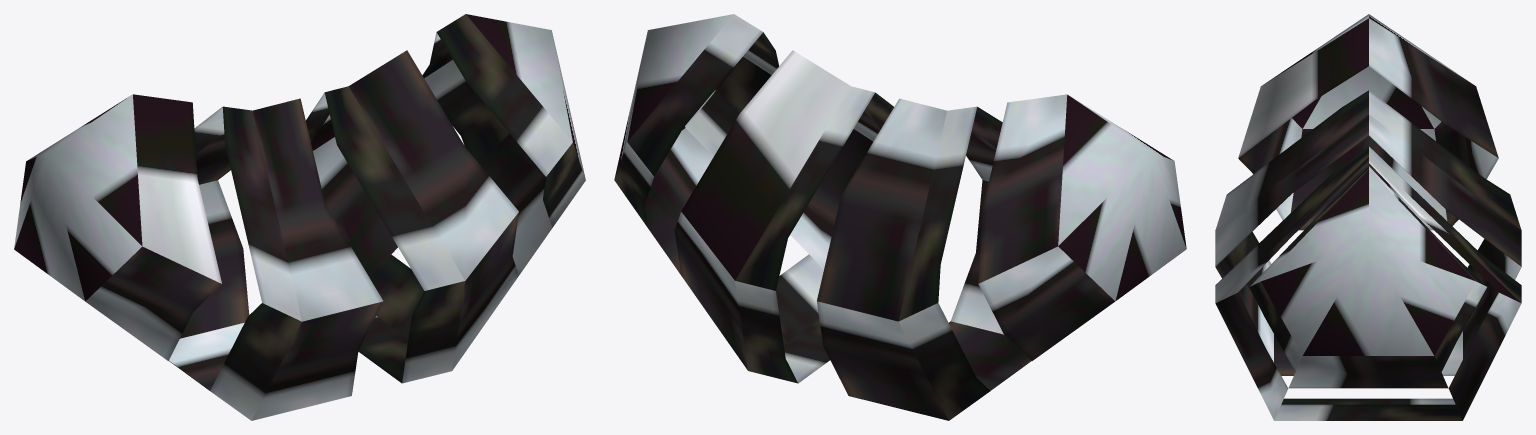
3 renders of one model, left to right at view 1: azimuth 30°, elevation 25°; view 2: azimuth 150°, elevation 25°; view 3: azimuth 270°, elevation 25°, orthographic. The views are drawn at different scales.
Visible parts, largest first — view 1: T1L4M008_19; view 2: T1L4M008_19; view 3: T1L4M008_19.
Part boxes in pixels (left/top/right/bottom): T1L4M008_19: left=14, top=14, right=585, bottom=420; T1L4M008_19: left=614, top=14, right=1186, bottom=420; T1L4M008_19: left=1215, top=14, right=1521, bottom=420.
Bounding box in the file's own units: 0.5547 × 0.3213 × 0.3154.
